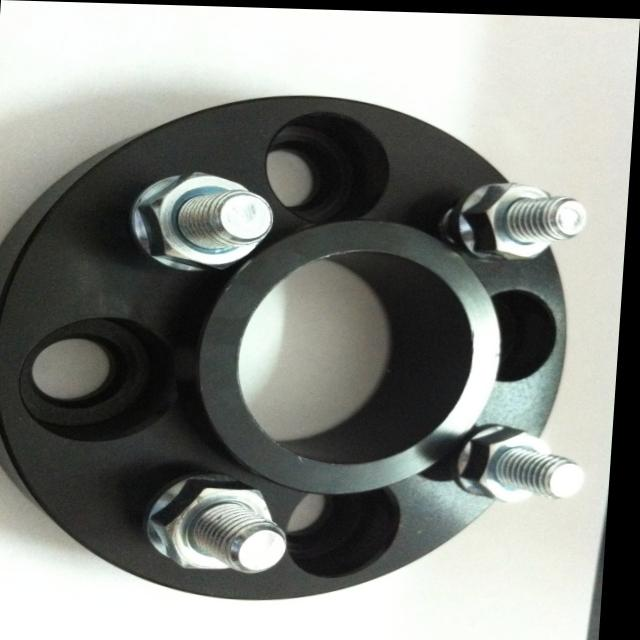Regular bolt: (152, 469, 282, 572), (144, 168, 267, 273), (462, 419, 572, 501), (458, 178, 552, 262)
